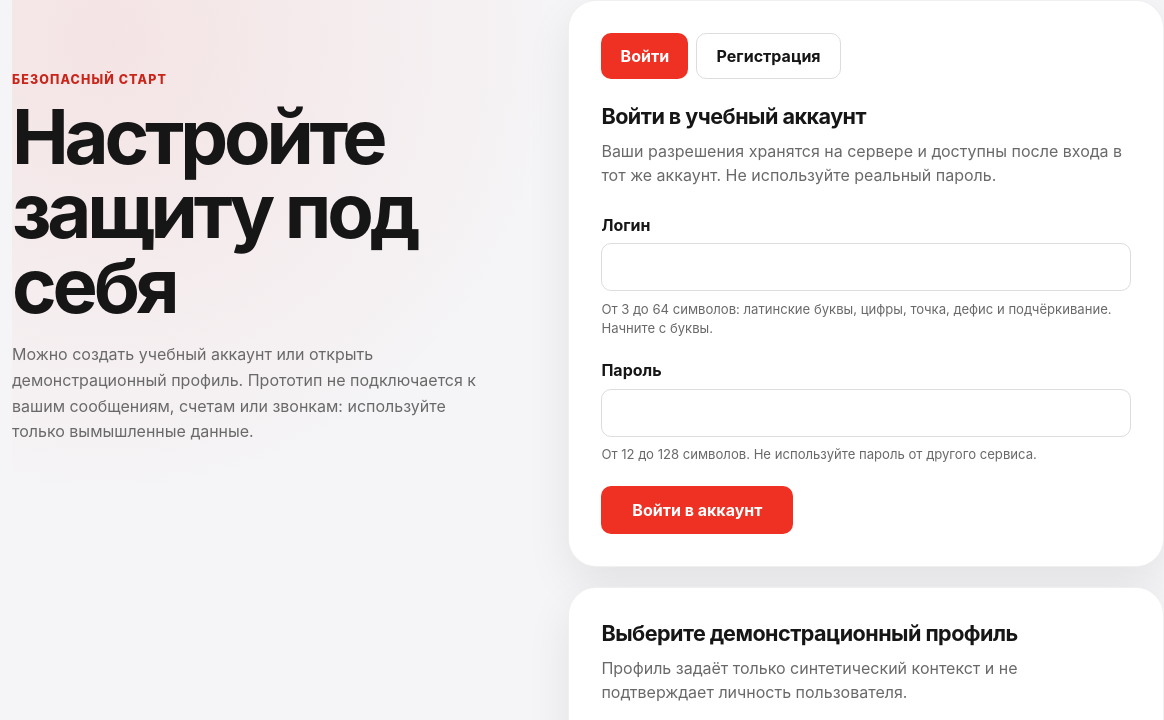
Test case: onboarding › logs in, logs out on a 204 response, and restores anonymous state
This screenshot has width=1164, height=720.
Type "student_one" into the field labelled "Логин" at point(866, 267), box [601,243,1131,291]
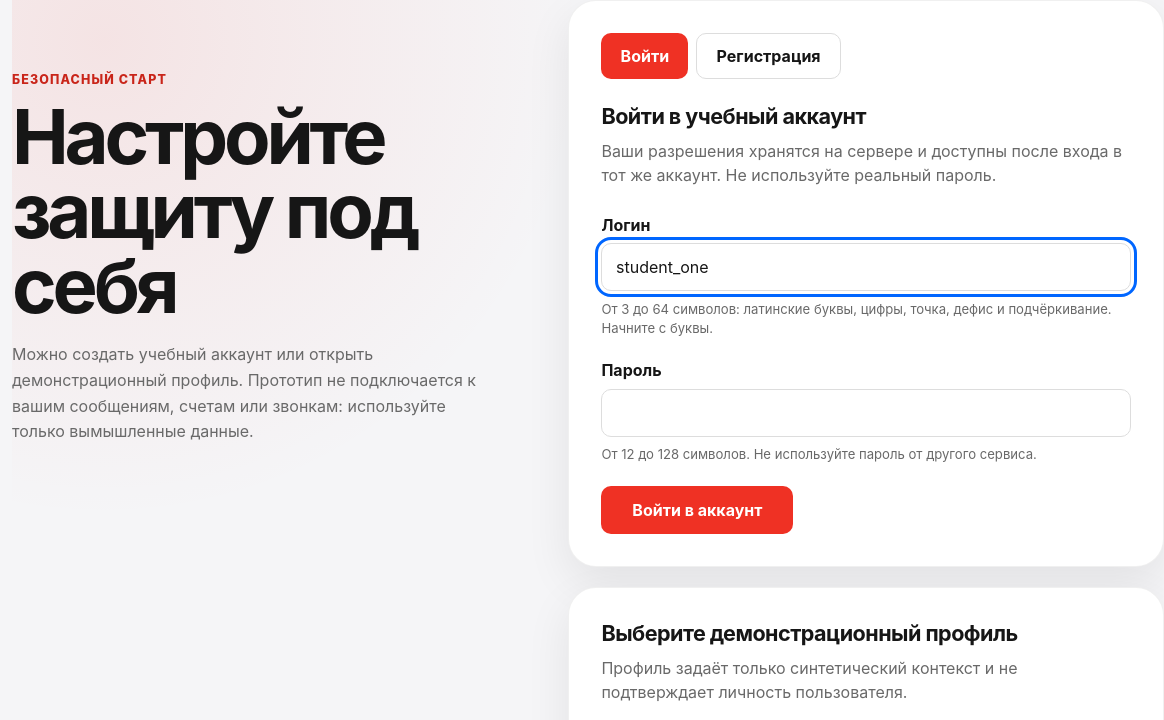
Type "safe-test-pass-123" into the password field labelled "Пароль" at point(866, 413), box [601,389,1131,437]
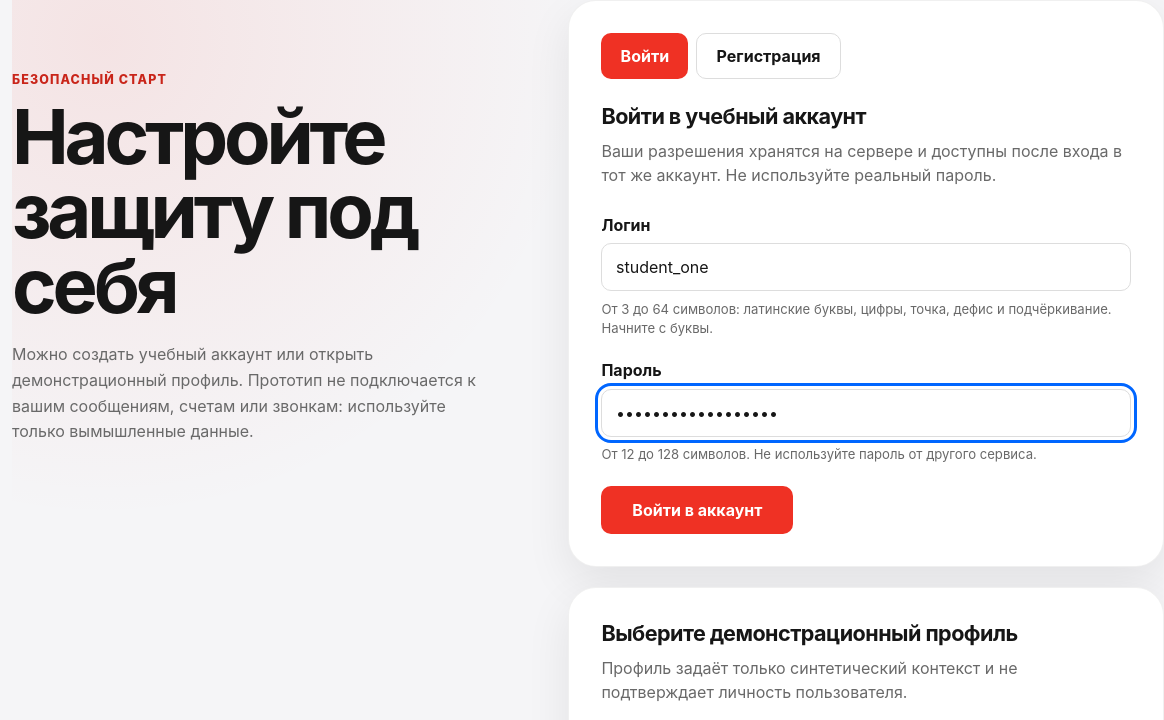
Click the button "Войти в аккаунт" at point(697, 510), box [601,486,793,534]
(page scrolled)
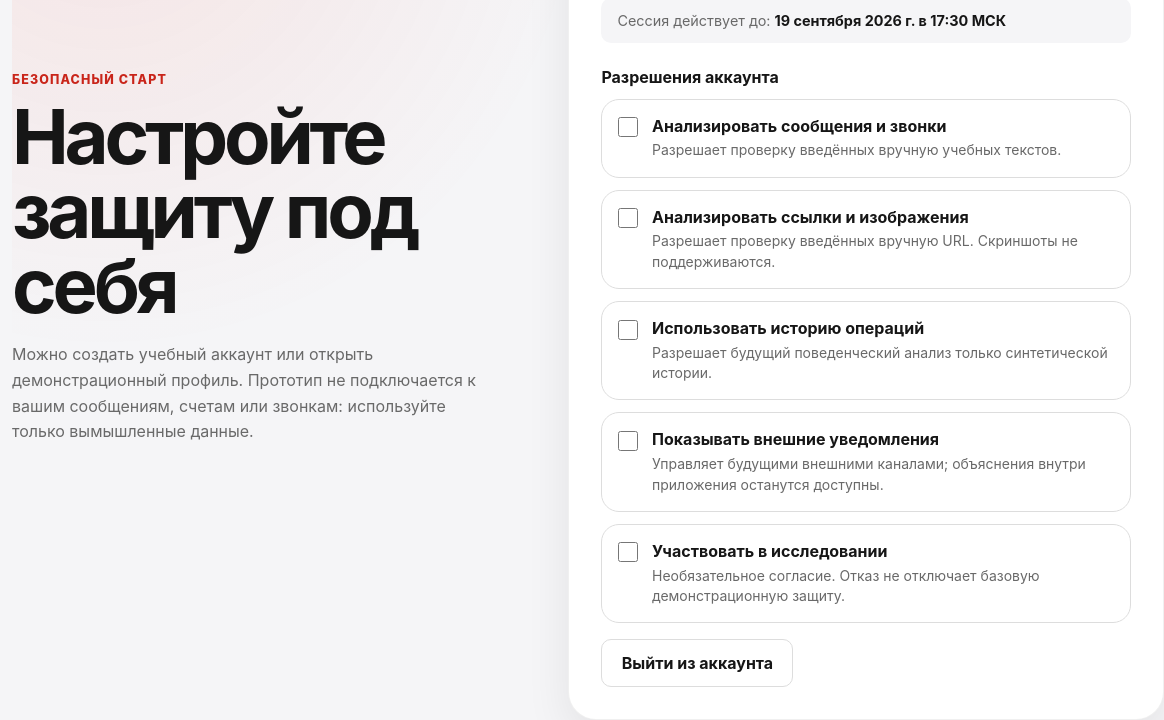
Click the button "Выйти из аккаунта" at point(697, 663), box [601,639,793,687]
(page scrolled)
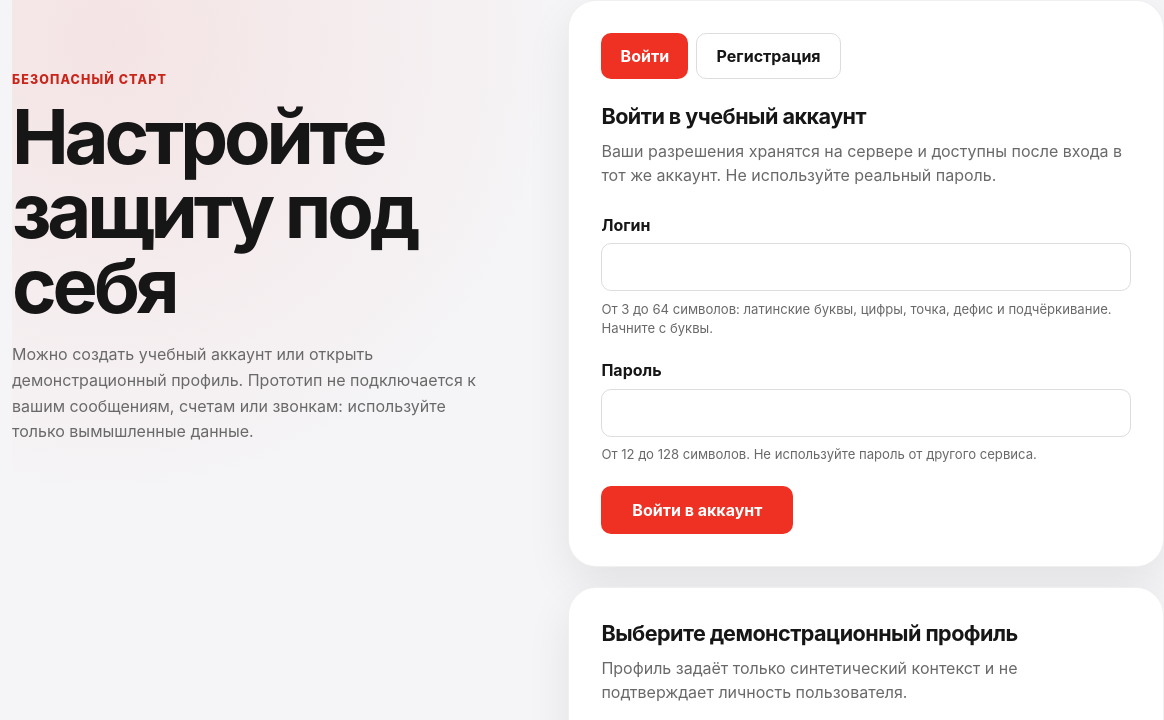
Expected: the heading "Войти в учебный аккаунт" is shown, [601,103,866,129]
